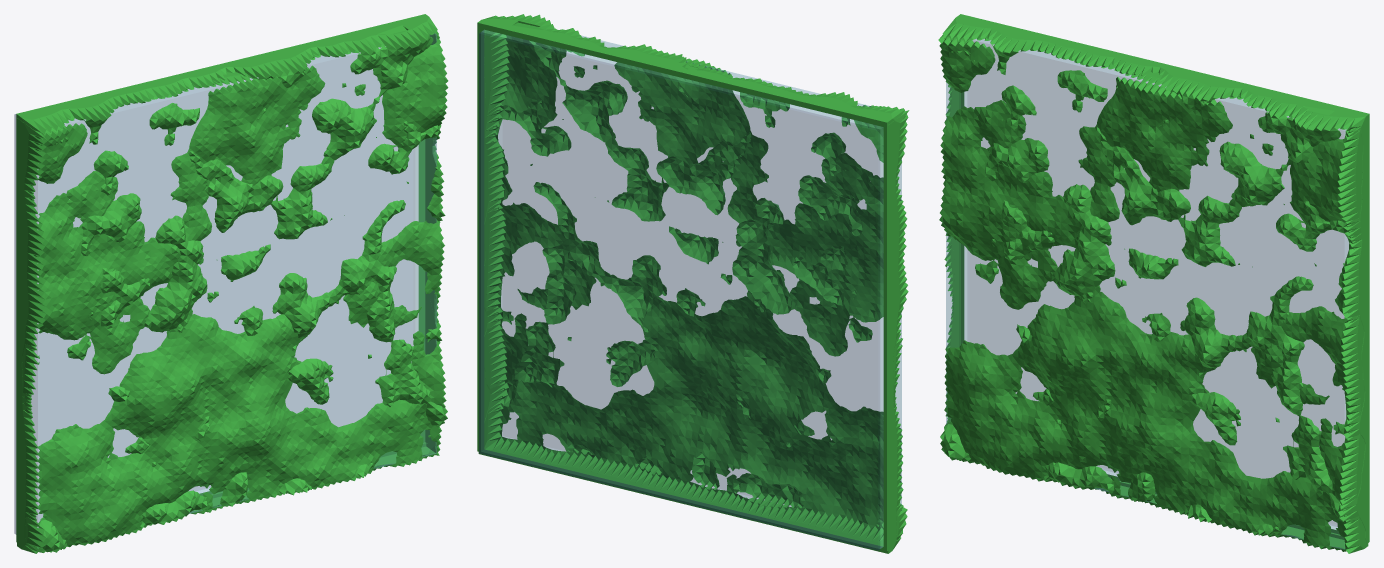
File: tinker.obj
3 views of the same model, side by side, from view 1: azimuth 30°, elevation 25°; view 2: azimuth 150°, elevation 25°; view 3: azimuth 330°, elevation 25° (orthographic).
Parts seen in each view (by area): view 1: group_0_4634441, group_0_-1031418394, group_0_-1038537118; view 2: group_0_-1038537118, group_0_4634441, group_0_-1031418394; view 3: group_0_4634441, group_0_-1031418394, group_0_-1038537118.
Boxes of the visible parts, left/top/right/bottom form: group_0_4634441: left=16, top=14, right=448, bottom=553; group_0_-1031418394: left=31, top=33, right=436, bottom=547; group_0_-1038537118: left=14, top=48, right=414, bottom=533; group_0_-1038537118: left=479, top=32, right=879, bottom=550; group_0_4634441: left=477, top=14, right=909, bottom=553; group_0_-1031418394: left=481, top=30, right=901, bottom=548; group_0_4634441: left=938, top=14, right=1369, bottom=553; group_0_-1031418394: left=946, top=39, right=1348, bottom=549; group_0_-1038537118: left=968, top=39, right=1348, bottom=526.
Bounding box in the file's own units: 220 × 221 × 31.23.
